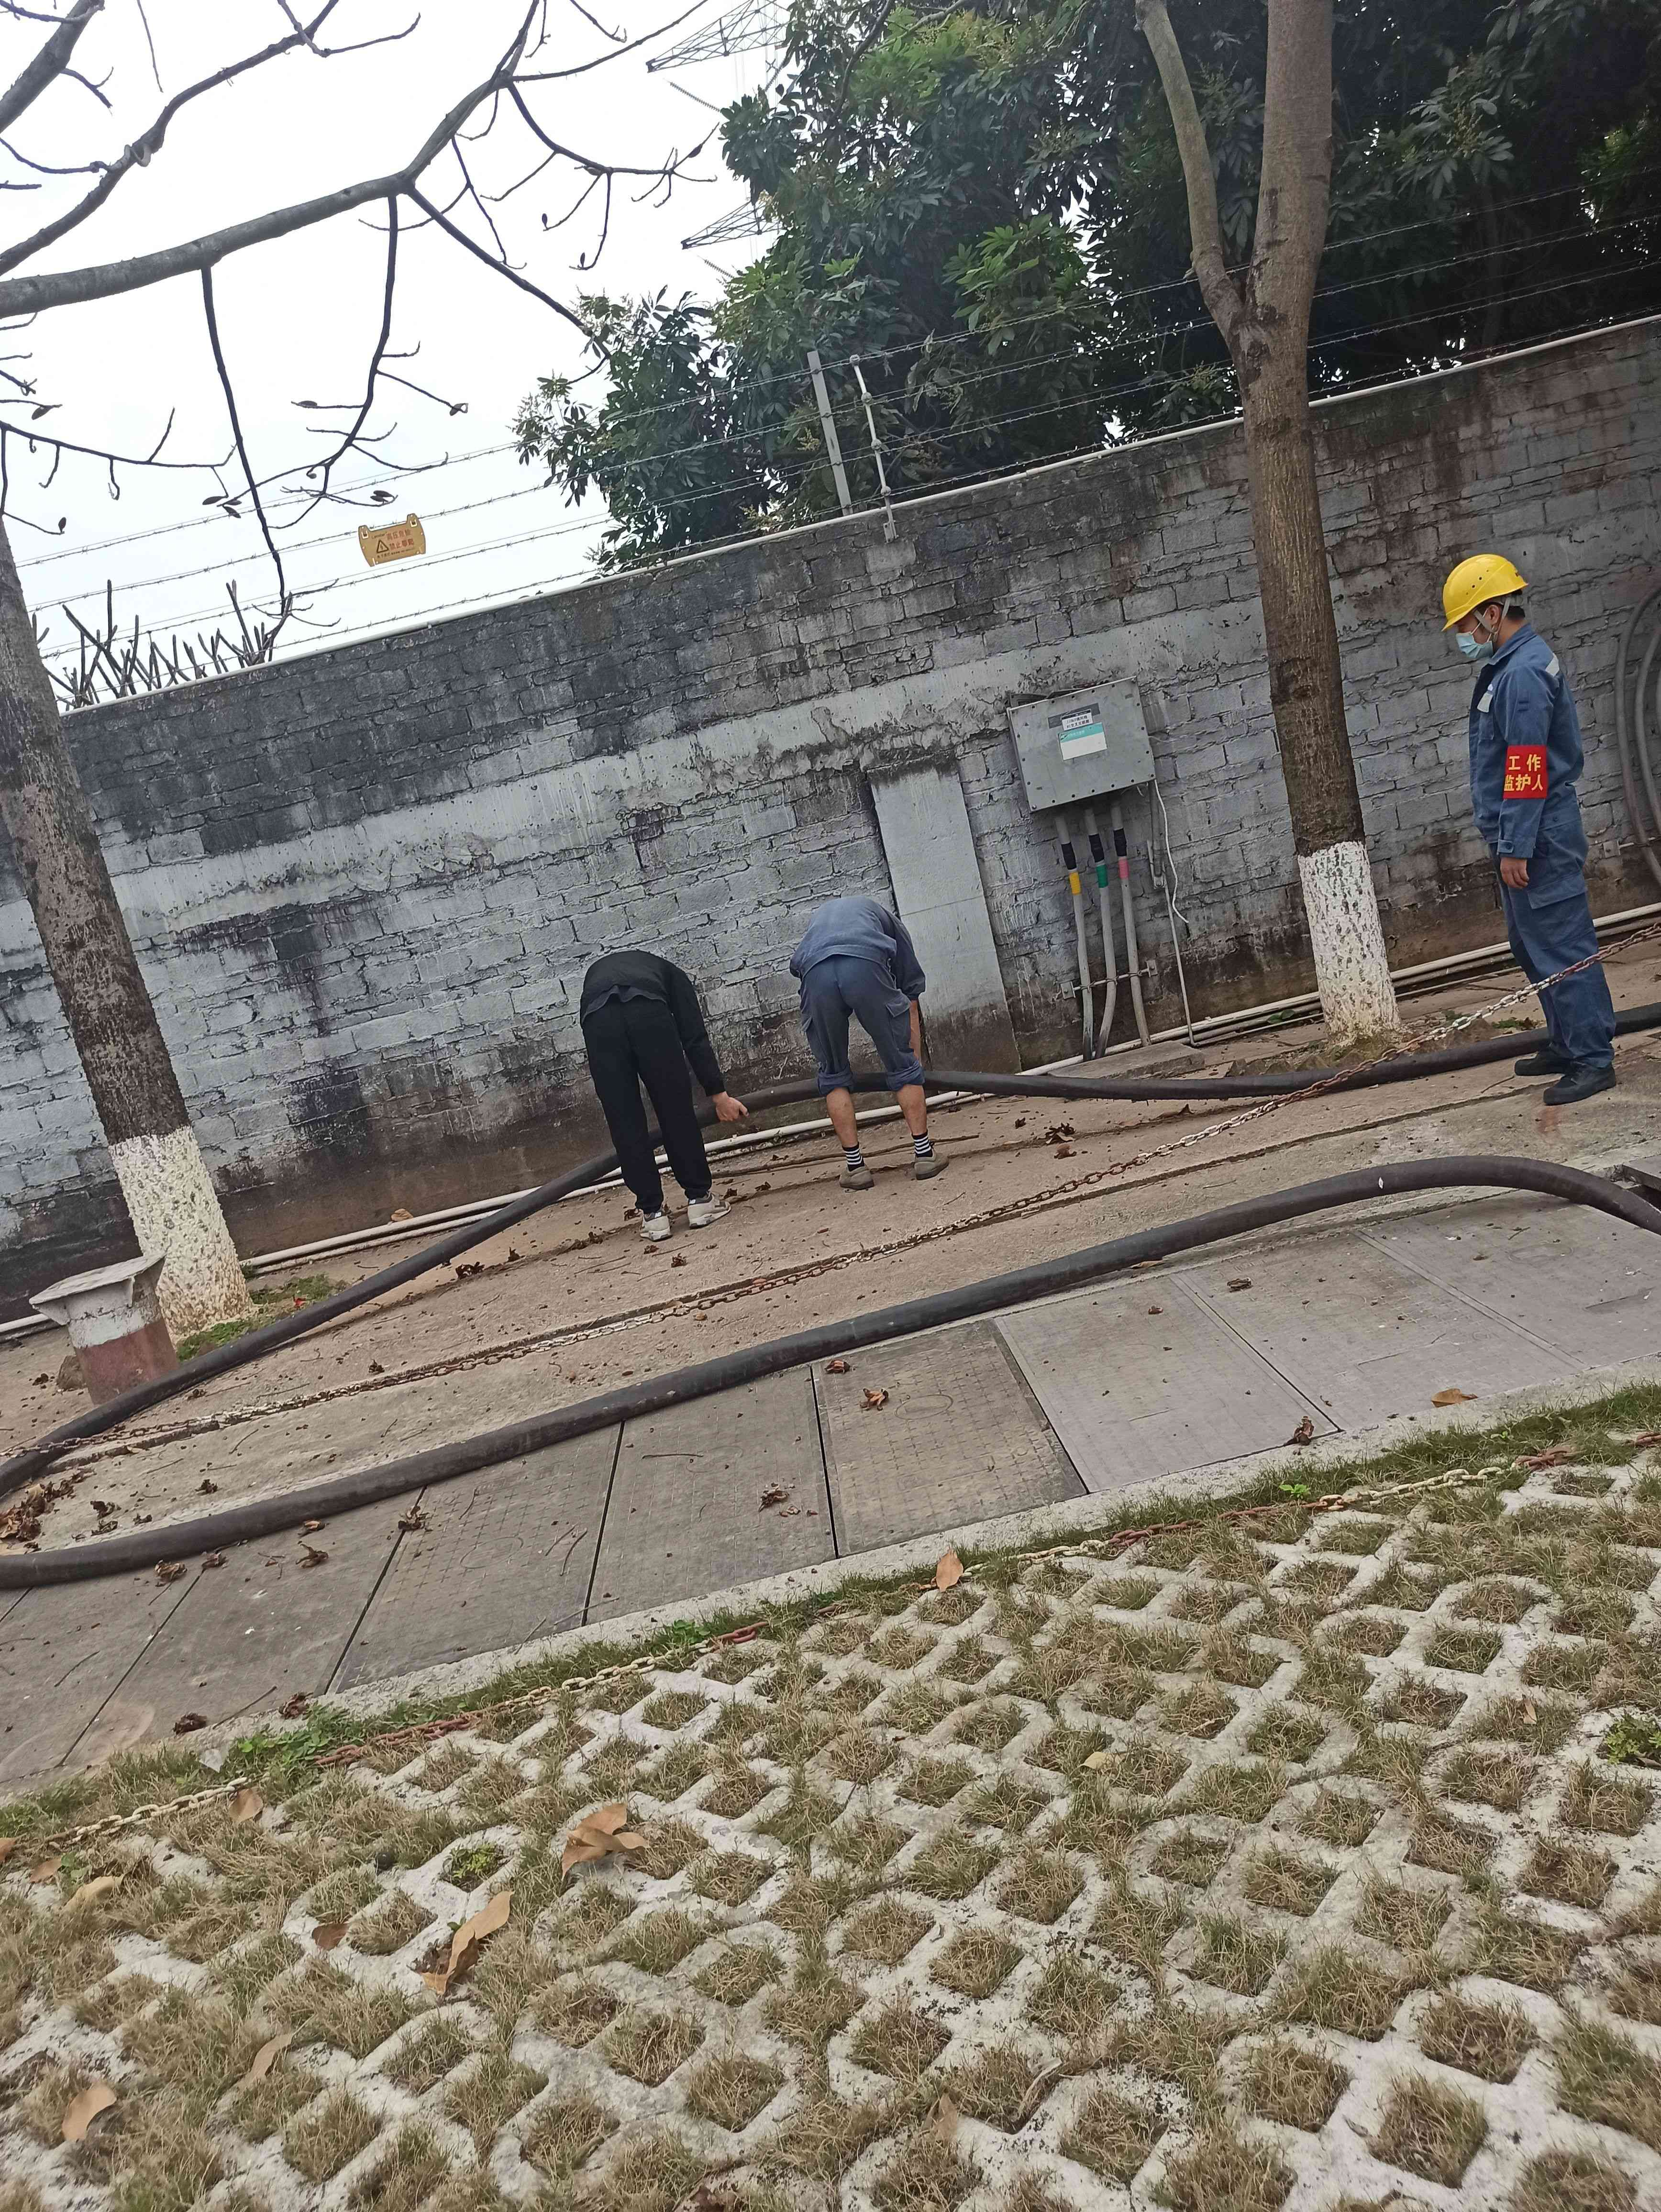downcloth: (593, 1050, 710, 1207)
downsuit: (1500, 857, 1616, 1068), (806, 987, 925, 1094)
upcloth: (581, 952, 700, 1045)
upsuit: (1455, 638, 1589, 862), (790, 897, 914, 979)
wrongbottom: (888, 1059, 930, 1130), (820, 1075, 858, 1144)
